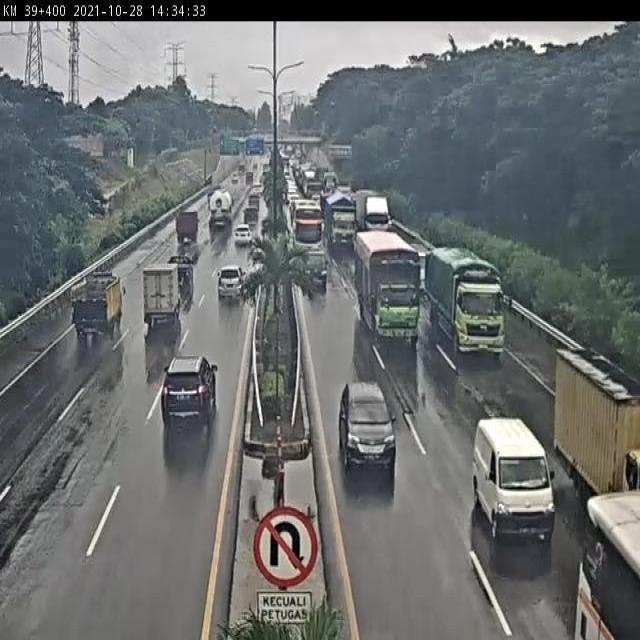big bus: (292, 201, 327, 263)
big truck: (425, 242, 506, 362), (355, 232, 424, 345), (324, 189, 359, 259), (359, 188, 396, 244)
car: (472, 415, 557, 537), (334, 382, 399, 470), (160, 359, 220, 428), (218, 263, 243, 308), (301, 252, 332, 288), (170, 256, 193, 295), (233, 223, 253, 249)
small truck: (554, 351, 640, 516), (73, 272, 128, 340), (138, 267, 183, 328), (174, 208, 201, 245)
